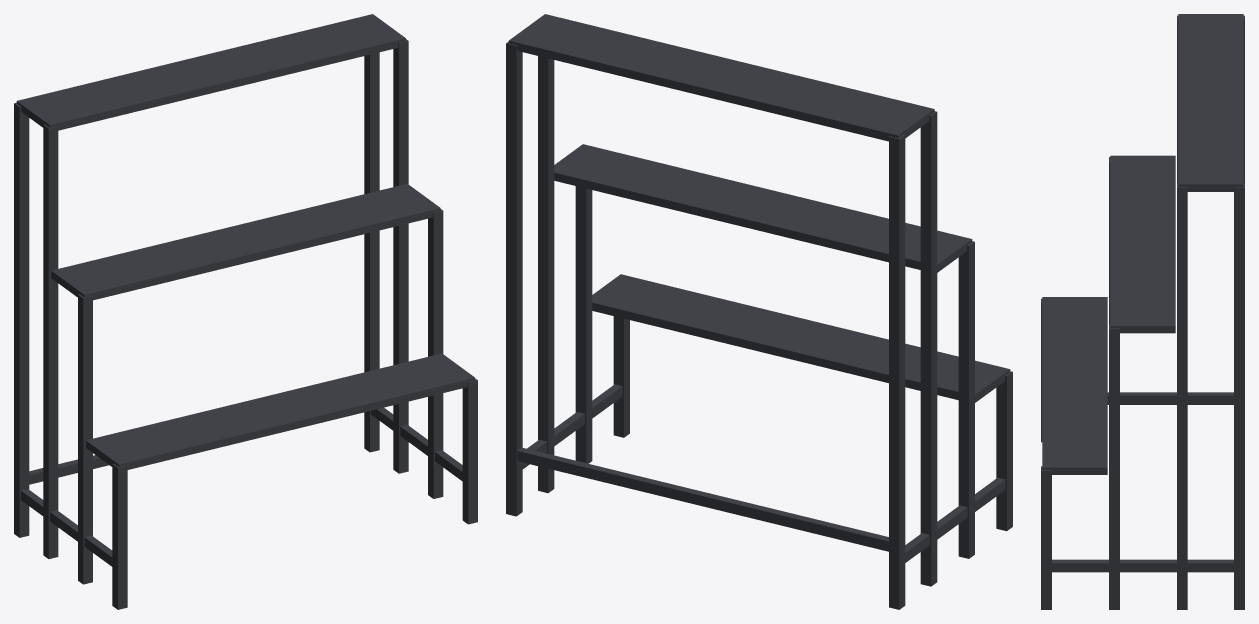
Rendered from SM_Street_PotShelf_Tier3_Black_60_01.gltf.
3 views of the same model, side by side, from view 1: azimuth 30°, elevation 25°; view 2: azimuth 150°, elevation 25°; view 3: azimuth 270°, elevation 25° (orthographic). The views are drawn at different scales.
Visible parts, largest first — view 1: SM_Street_PotShelf_Tier3_Black_60_01; view 2: SM_Street_PotShelf_Tier3_Black_60_01; view 3: SM_Street_PotShelf_Tier3_Black_60_01.
Part boxes in pixels (<box>): SM_Street_PotShelf_Tier3_Black_60_01: <box>14,14,477,609</box>; SM_Street_PotShelf_Tier3_Black_60_01: <box>506,14,1012,609</box>; SM_Street_PotShelf_Tier3_Black_60_01: <box>1041,14,1244,609</box>.
Size of the model in its own units: 0.6 by 0.69 by 0.3.
Materials: 1 (1 with a texture image).
